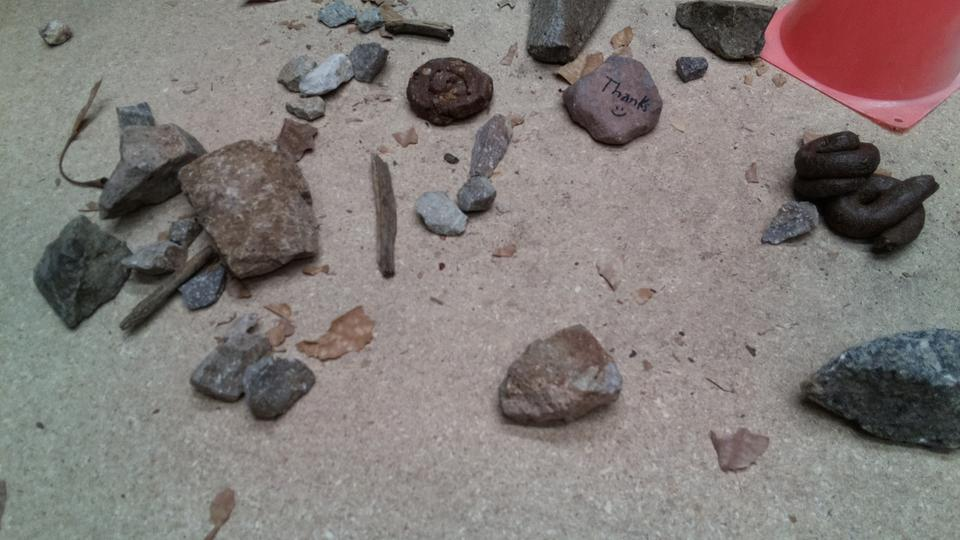poop: (829, 171, 945, 257), (404, 54, 495, 126), (790, 130, 879, 201)
